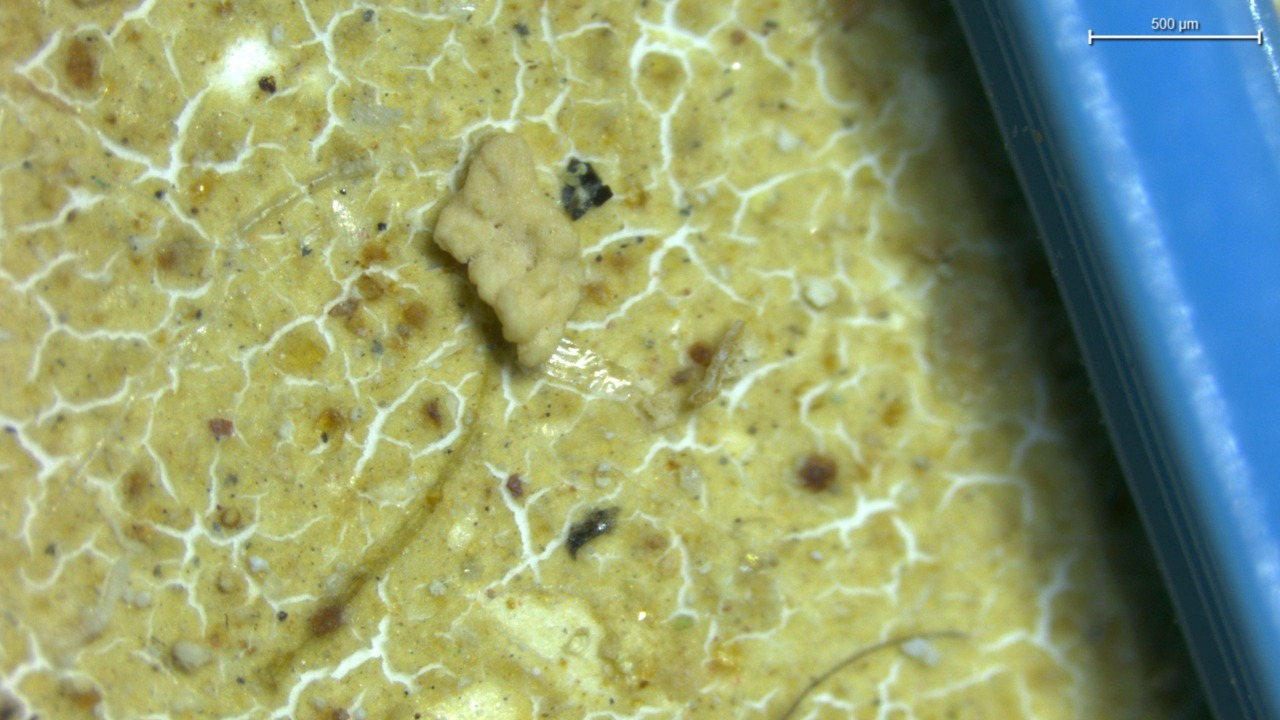microplastic_fragment: (434, 133, 584, 366)
